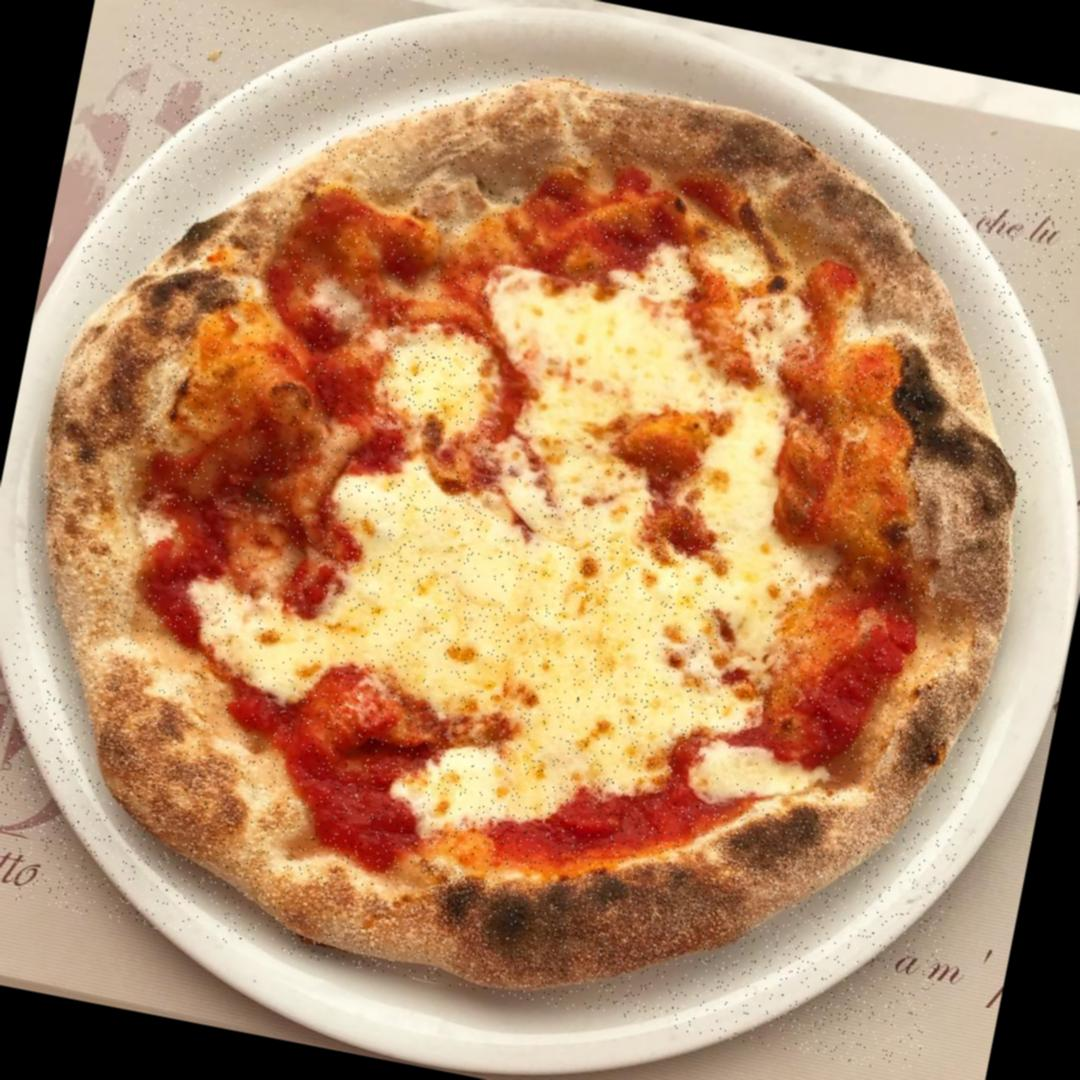Cheese: (292, 459, 738, 804), (476, 267, 728, 460), (674, 381, 813, 673), (479, 418, 688, 570), (380, 726, 590, 860), (370, 311, 514, 454), (187, 580, 339, 714), (680, 727, 829, 820)
Pizza: (0, 0, 1080, 1076)
